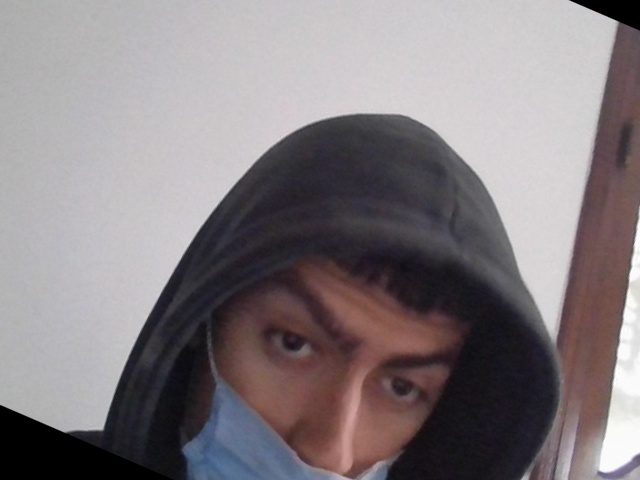mask_weared_incorrect: (176, 176, 480, 480)
